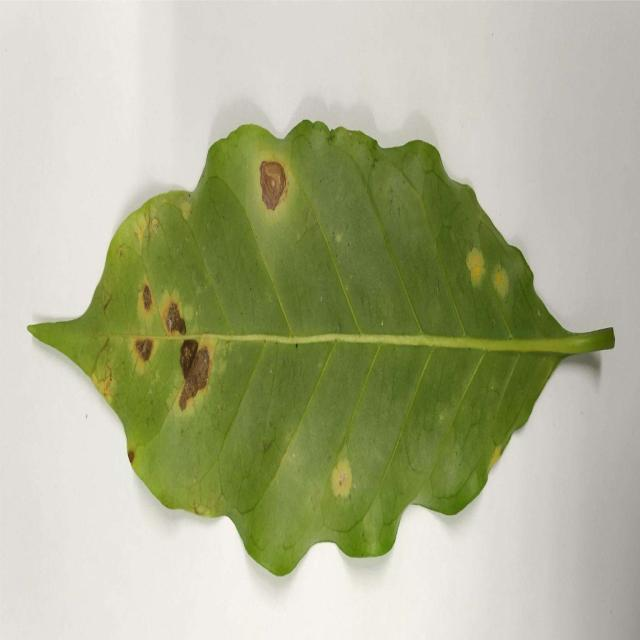Enfermedad-Mancha-de-hierro: (25, 119, 616, 580)
